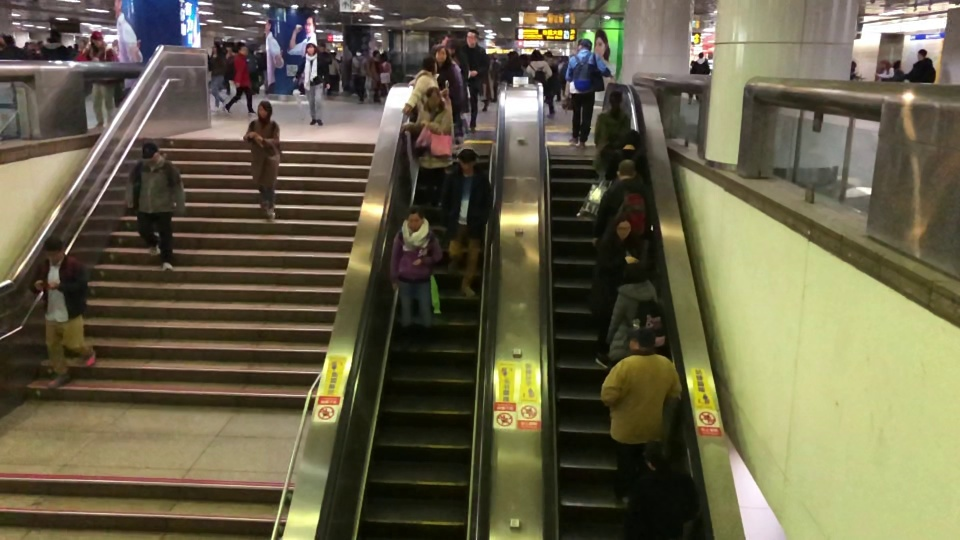person_head: (642, 440, 671, 468), (41, 236, 65, 261), (628, 328, 655, 350), (613, 211, 632, 242), (622, 261, 648, 282), (140, 142, 160, 164), (616, 159, 636, 180), (458, 148, 477, 170), (406, 205, 423, 227), (623, 128, 640, 148), (425, 87, 441, 106), (256, 99, 272, 116), (421, 55, 437, 72), (434, 46, 448, 61), (609, 90, 622, 106), (467, 29, 479, 46), (48, 28, 61, 43), (91, 32, 104, 47), (531, 48, 544, 60), (578, 38, 592, 49), (236, 45, 249, 56), (3, 34, 15, 45), (306, 42, 317, 53), (916, 48, 927, 59), (507, 52, 517, 61), (880, 59, 889, 67), (372, 49, 379, 57), (850, 60, 857, 68), (545, 51, 552, 57), (894, 60, 900, 67), (212, 43, 216, 52), (355, 50, 361, 56), (698, 51, 702, 56)
person_vbox: (600, 328, 682, 503), (29, 236, 98, 392), (125, 141, 186, 274), (389, 205, 441, 353), (442, 148, 493, 297), (628, 440, 699, 540), (591, 211, 634, 368), (604, 261, 667, 361), (400, 88, 452, 207), (564, 37, 615, 151), (593, 159, 647, 246), (243, 99, 280, 222), (82, 32, 120, 127), (592, 90, 630, 179), (294, 42, 331, 123), (466, 30, 489, 132), (224, 46, 256, 115), (403, 56, 437, 114), (603, 129, 641, 180), (206, 42, 227, 112), (433, 45, 458, 98), (525, 49, 553, 96), (904, 48, 936, 83), (349, 49, 368, 103), (41, 27, 70, 61), (366, 48, 383, 104), (692, 51, 711, 100), (545, 51, 559, 116), (2, 33, 25, 58), (503, 52, 522, 80), (875, 58, 893, 81), (849, 60, 863, 81), (893, 60, 904, 82)
